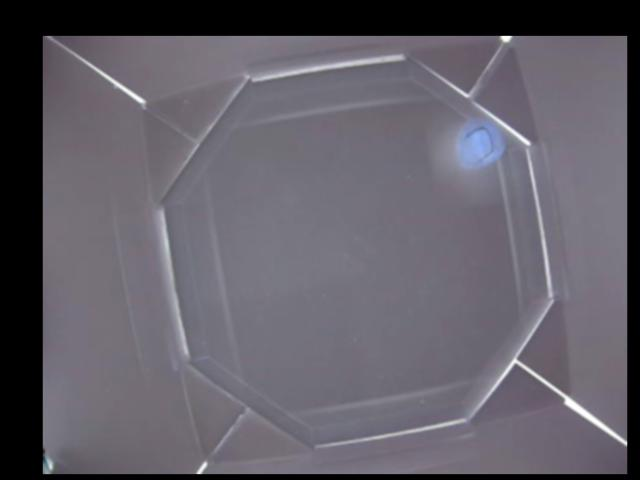Pebble: (453, 119, 507, 169)
